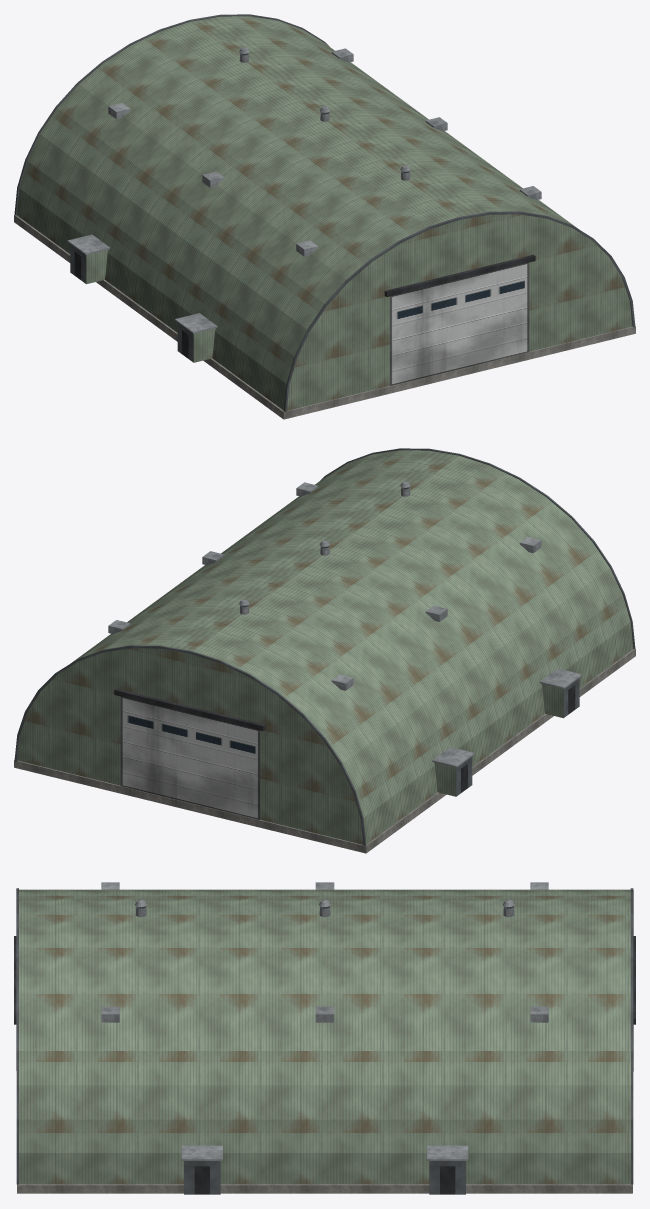
File: wh_arch.glb
The picture shows the model from 3 angles, top to bottom: view 1: azimuth 30°, elevation 25°; view 2: azimuth 150°, elevation 25°; view 3: azimuth 270°, elevation 25°; orthographic projection. The views are drawn at different scales.
Visible parts, largest first — view 1: wh_arch; view 2: wh_arch; view 3: wh_arch.
Part boxes in pixels (<box>): wh_arch: <box>14,14,635,419</box>; wh_arch: <box>14,448,635,853</box>; wh_arch: <box>14,882,635,1194</box>.
Bounding box in the file's own units: 33.5 × 14.05 × 40.6.
Materials: 1 (1 with a texture image).
